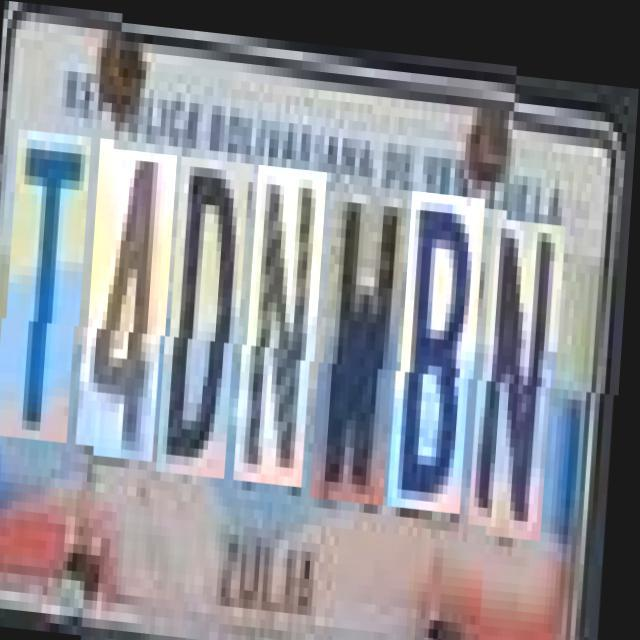4: (86, 145, 179, 458)
B: (398, 181, 487, 503)
D: (166, 152, 252, 473)
N: (479, 197, 568, 519), (244, 159, 329, 480)
T: (4, 137, 93, 450)
W: (321, 174, 410, 496)
